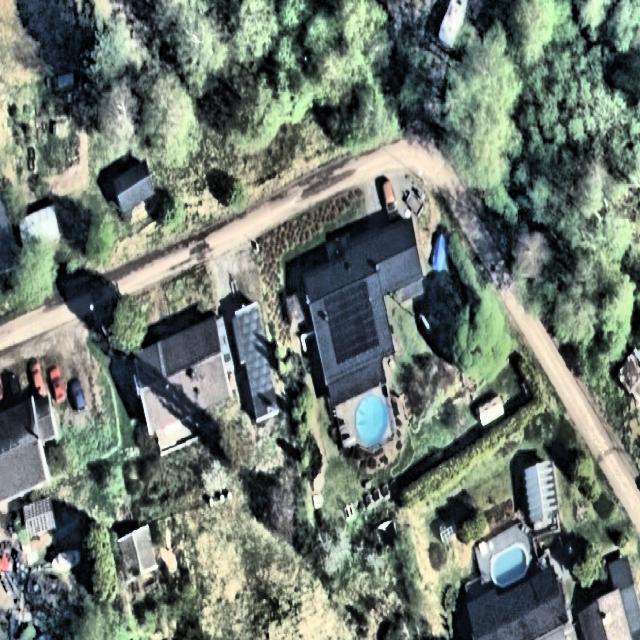roof_pv: (323, 278, 382, 368)
